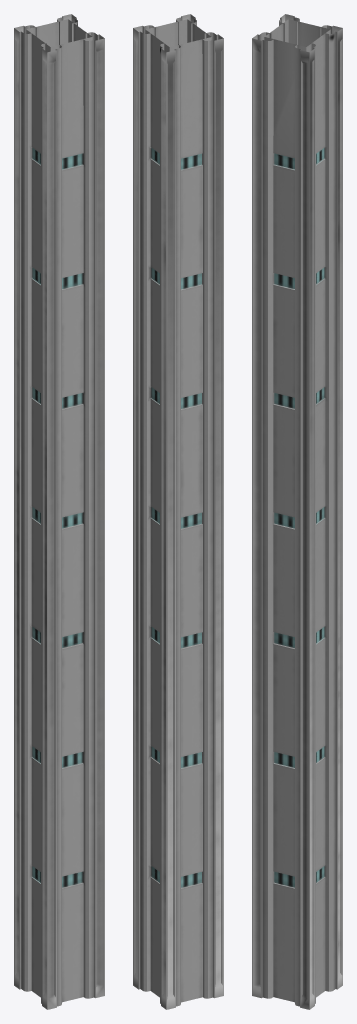
File: SM_Pillar_Lab.fbx
The picture shows the model from 3 angles, left to right: view 1: azimuth 30°, elevation 25°; view 2: azimuth 210°, elevation 25°; view 3: azimuth 330°, elevation 25°; orthographic projection.
Parts seen in each view (by area): view 1: SM_Pillar_Lab; view 2: SM_Pillar_Lab; view 3: SM_Pillar_Lab.
Part boxes in pixels (x1,y1,x2,y2): SM_Pillar_Lab: [14, 14, 104, 1009]; SM_Pillar_Lab: [133, 14, 223, 1009]; SM_Pillar_Lab: [252, 14, 342, 1009].
Size of the model in its own units: 1.88 by 30 by 1.89.
